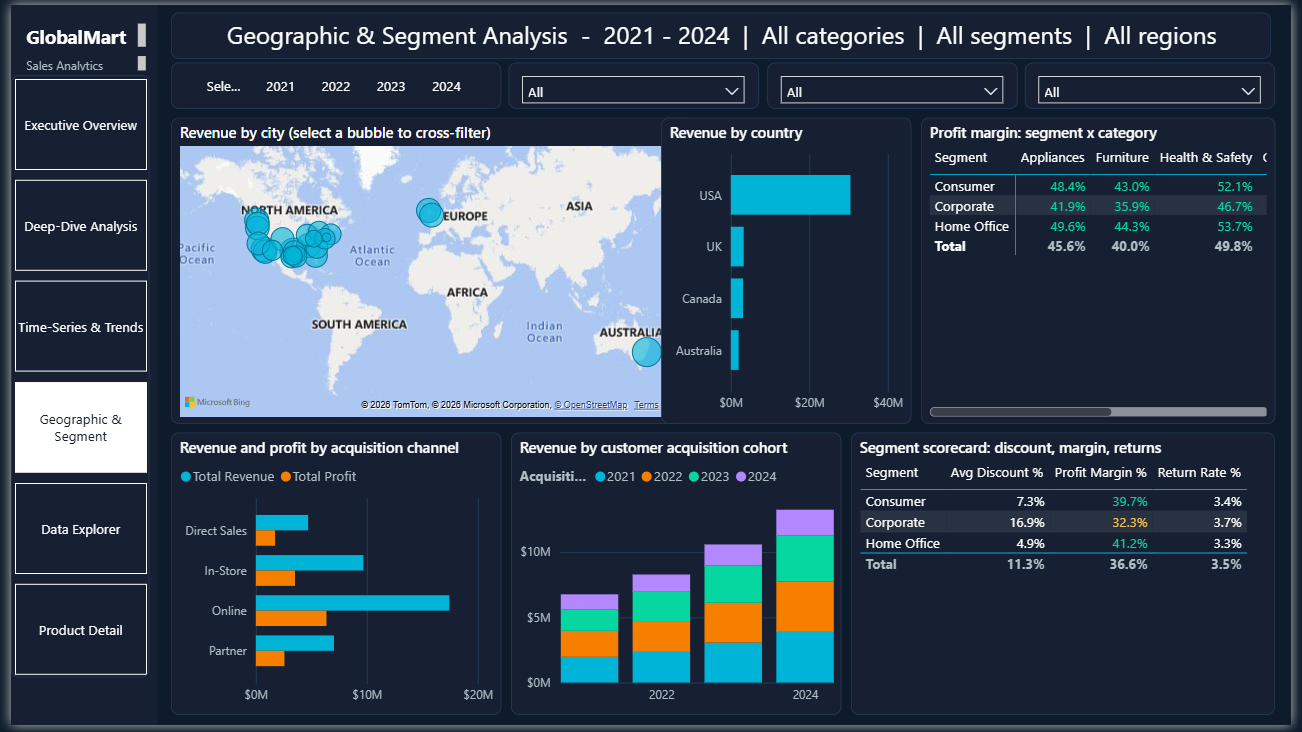

This screenshot's page, from the dashboard's own definition file:
{"tool":"powerbi","page":{"name":"Geographic & Segment","canvas":[1280,720],"ordinal":3},"visuals":[{"type":"textbox","box":[0,0,146,720],"z":100},{"type":"textbox","box":[10,14,130,34],"z":200},{"type":"textbox","box":[10,46,130,24],"z":300},{"type":"card","fields":{"Values":["_Measures.Geo Title"]},"box":[160,8,1100,46],"z":500},{"type":"slicer","fields":{"Values":["DimDate.Year"]},"box":[160,58,330,46],"z":600},{"type":"slicer","fields":{"Values":["DimProduct.Category"]},"box":[498,58,250,46],"z":700},{"type":"slicer","fields":{"Values":["DimCustomer.Segment"]},"box":[756,58,250,46],"z":800},{"type":"slicer","fields":{"Values":["DimRegion.Region"]},"box":[1014,58,250,46],"z":900},{"type":"map","title":"Revenue by city (select a bubble to cross-filter)","fields":{"X":["DimRegion.Longitude"],"Y":["DimRegion.Latitude"],"Size":["_Measures.Total Revenue"]},"box":[160,112,520,306],"z":1000},{"type":"clusteredBarChart","title":"Revenue by country","fields":{"Category":["DimRegion.Country"],"Y":["_Measures.Total Revenue"]},"box":[650,112,250,306],"z":1100},{"type":"pivotTable","title":"Profit margin: segment x category","fields":{"Columns":["DimProduct.Category"],"Rows":["DimCustomer.Segment"],"Values":["_Measures.Profit Margin %"]},"box":[910,112,354,306],"z":1200},{"type":"clusteredBarChart","title":"Revenue and profit by acquisition channel","fields":{"Category":["DimCustomer.AcquisitionChannel"],"Y":["_Measures.Total Revenue","_Measures.Total Profit"]},"box":[160,428,330,282],"z":1300},{"type":"columnChart","title":"Revenue by customer acquisition cohort","fields":{"Category":["DimDate.Year"],"Series":["DimCustomer.AcquisitionYear"],"Y":["_Measures.Total Revenue"]},"box":[500,428,330,282],"z":1400},{"type":"tableEx","title":"Segment scorecard: discount, margin, returns","fields":{"Values":["DimCustomer.Segment","_Measures.Avg Discount %","_Measures.Profit Margin %","_Measures.Return Rate %"]},"box":[840,428,424,282],"z":1500},{"type":"pageNavigator","box":[0,70.2,138.1,602.4],"z":1501}]}

Visuals, with their boxes on the page's 1280x720 design canvas (x1, y1, x2, y2). These are canvas units, not pixel positions in the 1302x732 screenshot, which may show the page scaled, cropped or inside an application window:
textbox: <bbox>0, 0, 146, 720</bbox>
textbox: <bbox>10, 14, 140, 48</bbox>
textbox: <bbox>10, 46, 140, 70</bbox>
card - _Measures.Geo Title: <bbox>160, 8, 1260, 54</bbox>
slicer - DimDate.Year: <bbox>160, 58, 490, 104</bbox>
slicer - DimProduct.Category: <bbox>498, 58, 748, 104</bbox>
slicer - DimCustomer.Segment: <bbox>756, 58, 1006, 104</bbox>
slicer - DimRegion.Region: <bbox>1014, 58, 1264, 104</bbox>
"Revenue by city (select a bubble to cross-filter)" map: <bbox>160, 112, 680, 418</bbox>
"Revenue by country" clusteredBarChart: <bbox>650, 112, 900, 418</bbox>
"Profit margin: segment x category" pivotTable: <bbox>910, 112, 1264, 418</bbox>
"Revenue and profit by acquisition channel" clusteredBarChart: <bbox>160, 428, 490, 710</bbox>
"Revenue by customer acquisition cohort" columnChart: <bbox>500, 428, 830, 710</bbox>
"Segment scorecard: discount, margin, returns" tableEx: <bbox>840, 428, 1264, 710</bbox>
pageNavigator: <bbox>0, 70, 138, 673</bbox>
